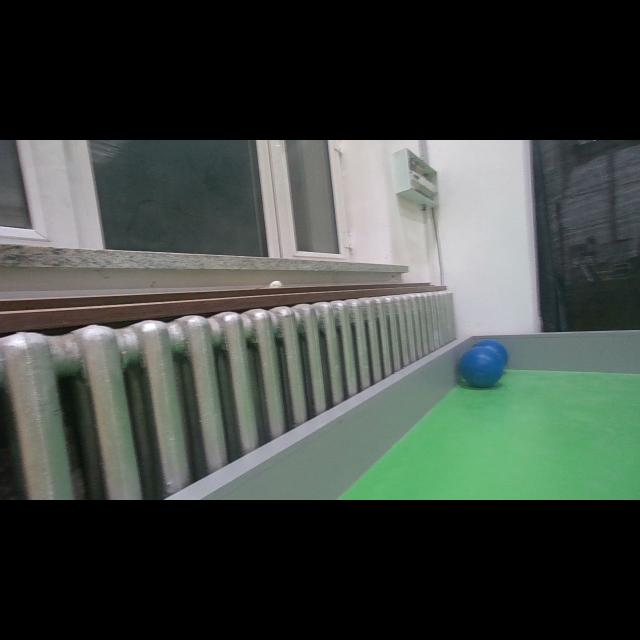B: (458, 347, 504, 388)
